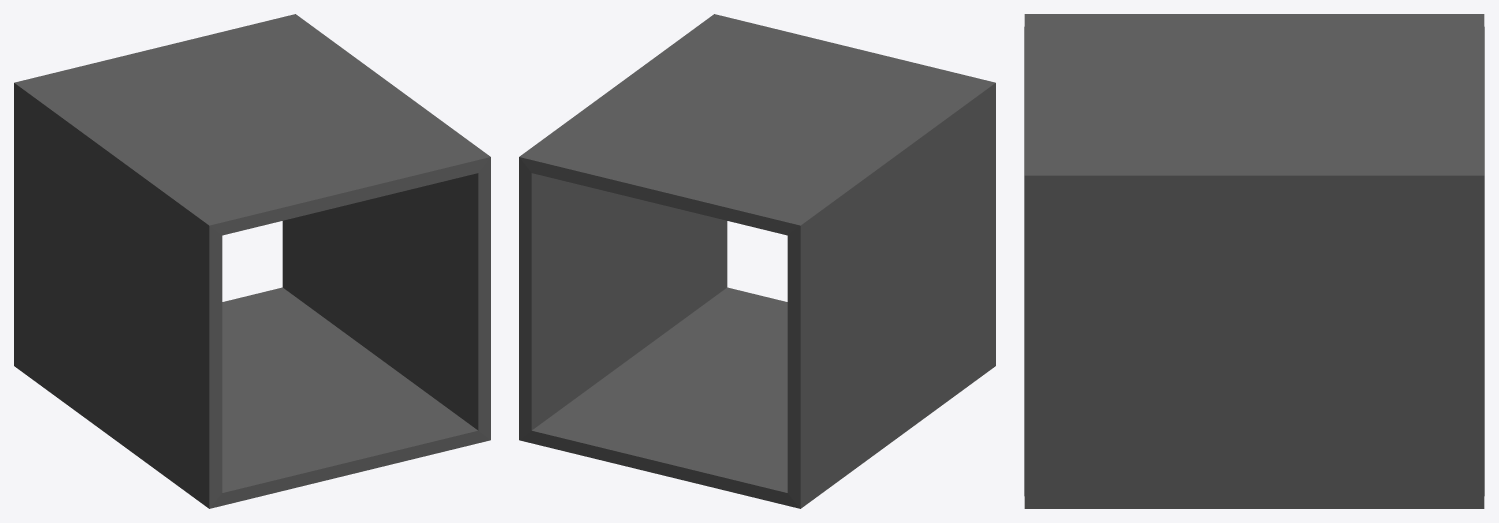
File: Shaft_Square.fbx
3 views of the same model, side by side, from view 1: azimuth 30°, elevation 25°; view 2: azimuth 150°, elevation 25°; view 3: azimuth 270°, elevation 25° (orthographic). The views are drawn at different scales.
Parts seen in each view (by area): view 1: ventTunnel.002; view 2: ventTunnel.002; view 3: ventTunnel.002.
Boxes of the visible parts, x1,y1,x2,y2 form: ventTunnel.002: (14, 14, 490, 508); ventTunnel.002: (519, 14, 995, 508); ventTunnel.002: (1024, 14, 1484, 508).
Bounding box in the file's own units: 82.75 × 79.57 × 99.6.
